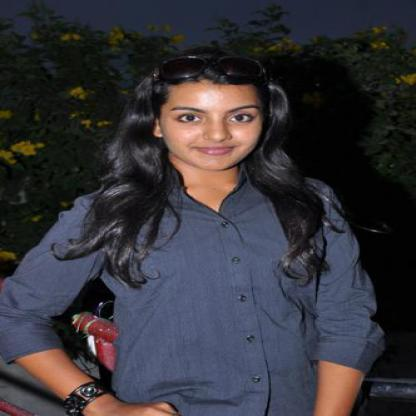long-hair: (104, 169, 303, 194)
